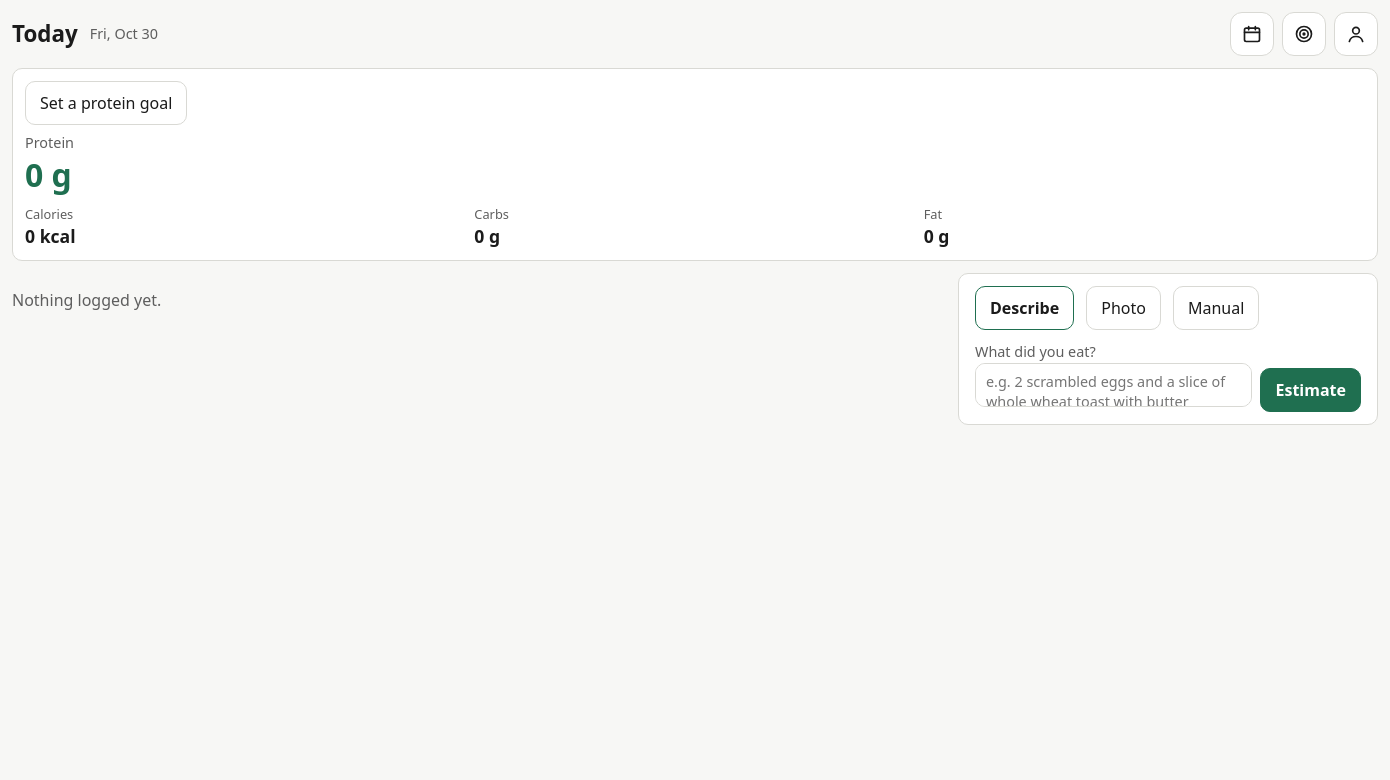
Test case: Composer photo: sources (feature 002) › offers Take photo and Choose existing photo without touching the camera (FR-001, FR-008)
The width and height of the screenshot is (1390, 780).
Click the button "Photo": point(1124, 308) [1086,286,1161,330]
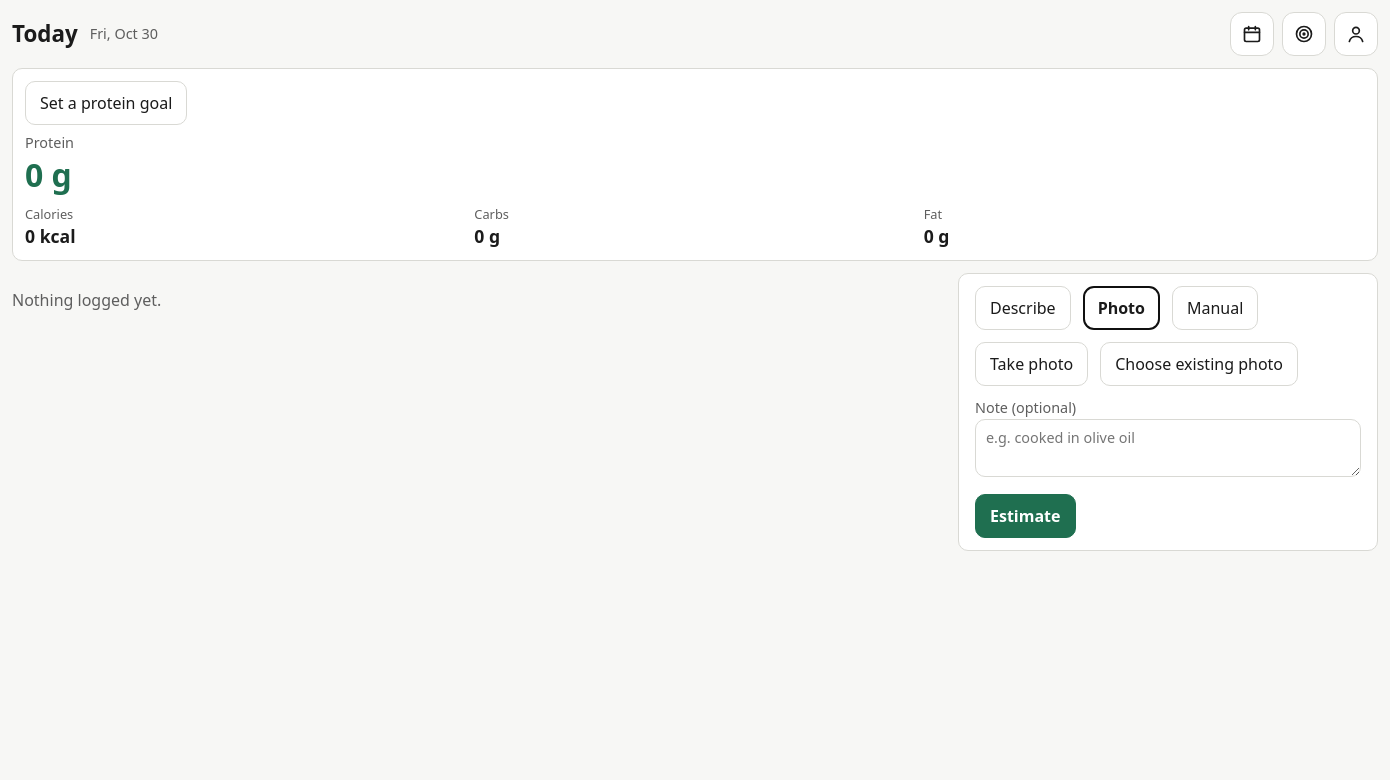
Result: the button "Take photo" is shown at [975,342,1088,386]
Result: the button "Choose existing photo" is shown at [1100,342,1298,386]
